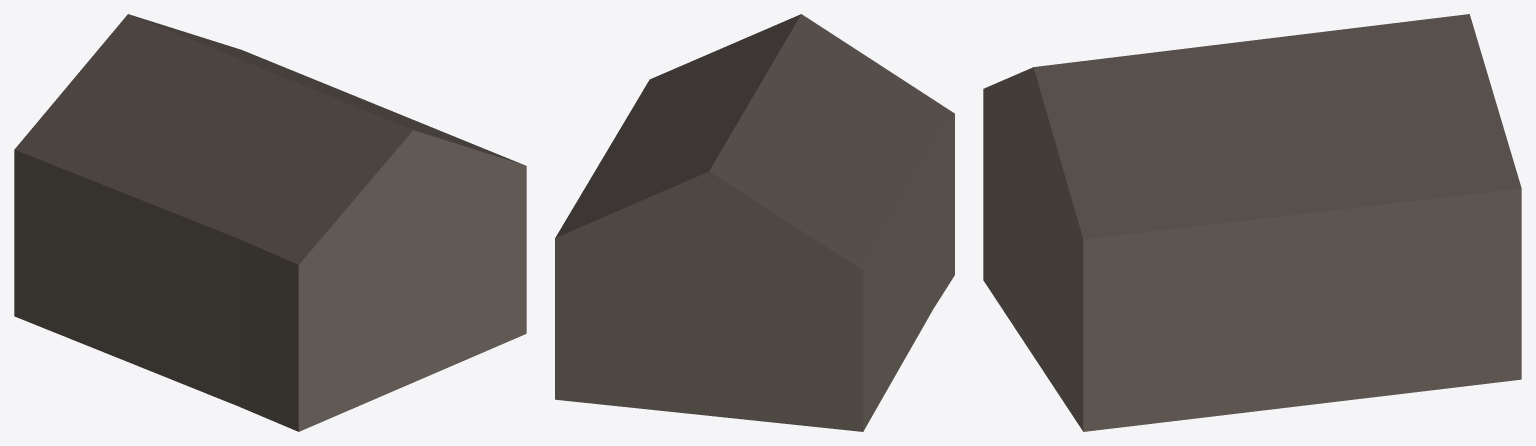
3 renders of one model, left to right at view 1: azimuth 30°, elevation 25°; view 2: azimuth 150°, elevation 25°; view 3: azimuth 270°, elevation 25°, orthographic. The views are drawn at different scales.
Visible parts, largest first — view 1: HP-w1198842490; view 2: HP-w1198842490; view 3: HP-w1198842490.
Part boxes in pixels (left/top/right/bottom): HP-w1198842490: left=14, top=14, right=526, bottom=431; HP-w1198842490: left=555, top=14, right=954, bottom=431; HP-w1198842490: left=983, top=14, right=1521, bottom=431.
Bounding box in the file's own units: 13.8 × 9.09 × 15.32.
